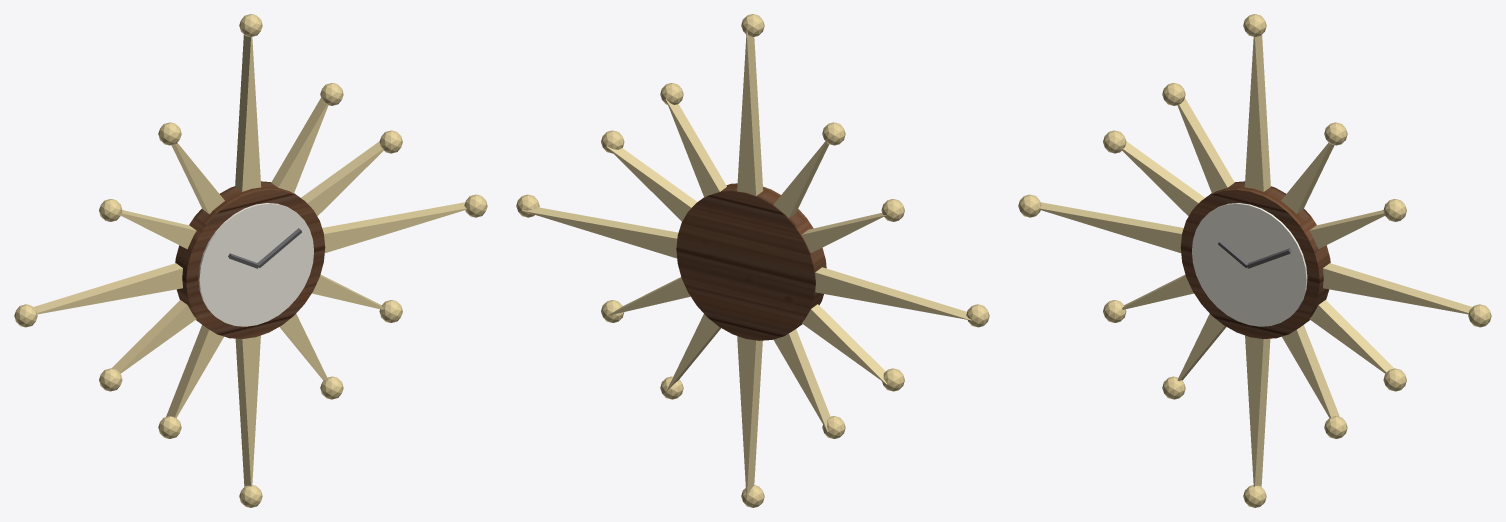
The model's file is star_clock.glb.
The picture shows the model from 3 angles, left to right: view 1: azimuth 30°, elevation 25°; view 2: azimuth 150°, elevation 25°; view 3: azimuth 330°, elevation 25°; orthographic projection.
Visible parts, largest first — view 1: star_clock_gold, star_clock_cream, star_clock_walnut, star_clock_brass, star_clock_dark; view 2: star_clock_gold, star_clock_walnut, star_clock_brass; view 3: star_clock_gold, star_clock_cream, star_clock_walnut, star_clock_brass.
Boxes of the visible parts, left/top/right/bottom form: star_clock_gold: left=33, top=35, right=466, bottom=486; star_clock_cream: left=198, top=203, right=313, bottom=326; star_clock_walnut: left=175, top=181, right=325, bottom=338; star_clock_brass: left=14, top=14, right=487, bottom=507; star_clock_dark: left=228, top=228, right=301, bottom=268; star_clock_gold: left=522, top=30, right=971, bottom=500; star_clock_walnut: left=676, top=183, right=826, bottom=340; star_clock_brass: left=516, top=14, right=989, bottom=507; star_clock_gold: left=1039, top=35, right=1472, bottom=486; star_clock_cream: left=1192, top=203, right=1307, bottom=326; star_clock_walnut: left=1180, top=181, right=1330, bottom=338; star_clock_brass: left=1018, top=14, right=1491, bottom=507.
Bounding box in the file's own units: 1.15 × 1.15 × 0.0652.
5 materials, 1 textured.
